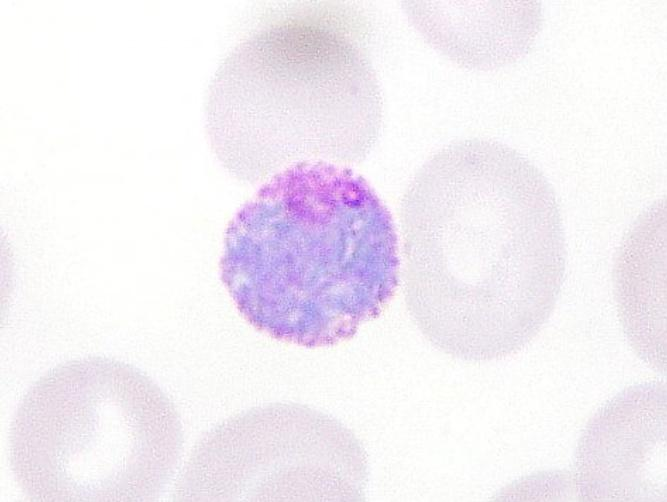Infected: (218, 160, 398, 347)
Uninfected: (404, 136, 565, 359), (206, 29, 383, 178), (6, 357, 180, 502), (190, 405, 368, 502)
